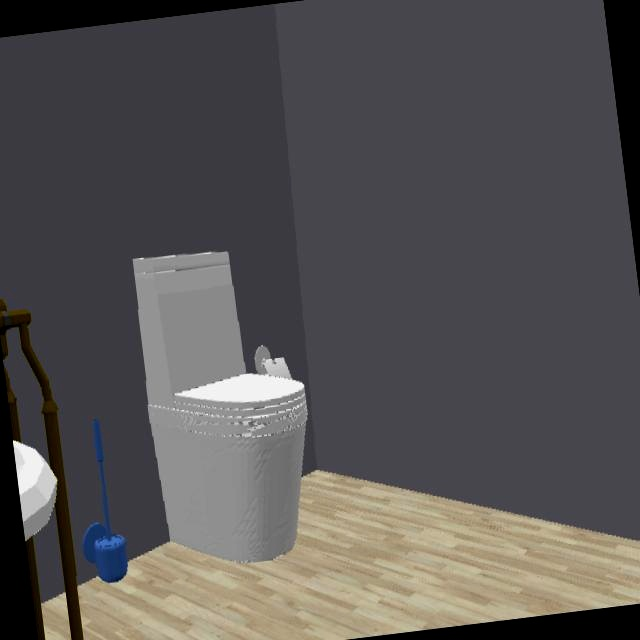bathtube: (12, 441, 57, 544)
toilet: (133, 251, 308, 564)
